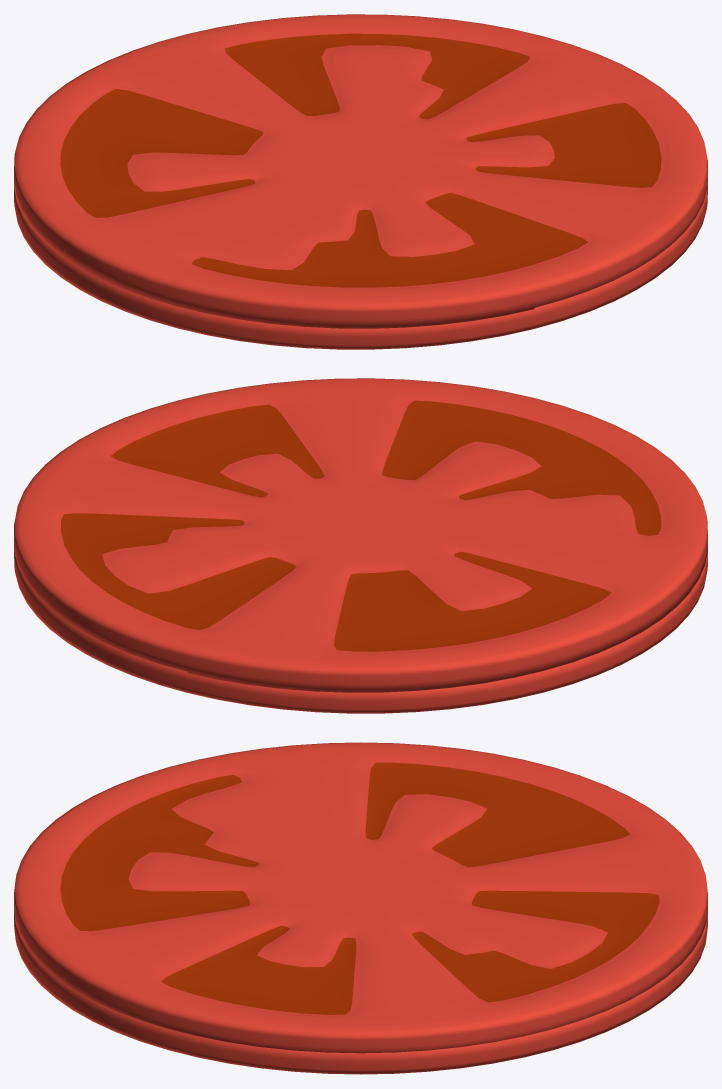
File: tomato-slice.fbx
The picture shows the model from 3 angles, top to bottom: view 1: azimuth 30°, elevation 25°; view 2: azimuth 150°, elevation 25°; view 3: azimuth 270°, elevation 25°; orthographic projection.
Visible parts, largest first — view 1: Circle, Circle.001; view 2: Circle, Circle.001; view 3: Circle, Circle.001.
Part boxes in pixels (x1,y1,x2,y2): Circle: [14, 14, 707, 328]; Circle.001: [14, 174, 707, 349]; Circle: [14, 378, 707, 692]; Circle.001: [14, 538, 707, 713]; Circle: [14, 742, 707, 1053]; Circle.001: [14, 910, 707, 1074].
Size of the model in its own units: 216 by 16.59 by 215.
